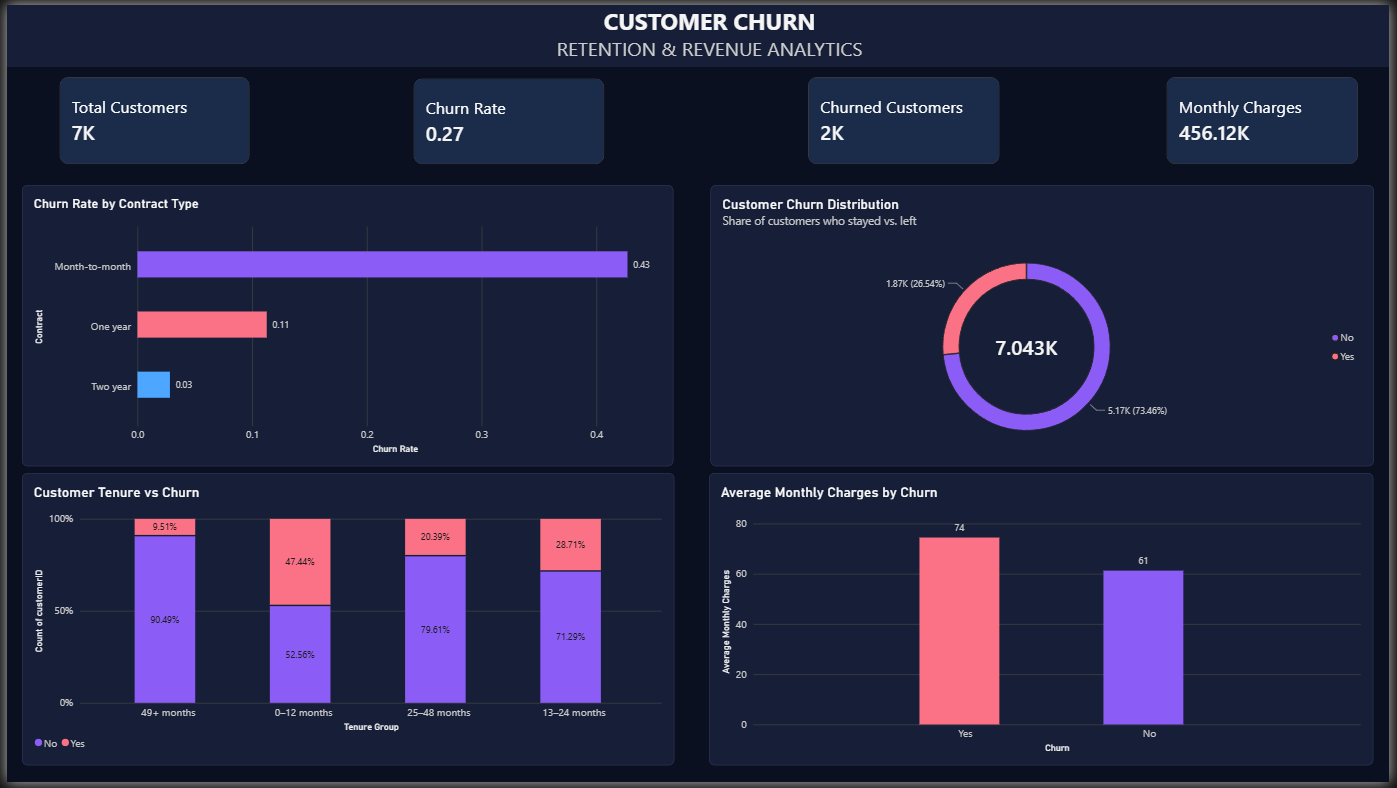

Layout of this report page (visuals, bound fields, positions):
{"tool":"powerbi","page":{"name":"executive overview","canvas":[1920,1080],"ordinal":0},"visuals":[{"type":"cardVisual","fields":{"Data":["Telco-Customer-Churn.Total Customers"]},"box":[73.8,100,264.3,121.4],"z":0},{"type":"cardVisual","fields":{"Data":["Telco-Customer-Churn.Churn Rate"]},"box":[564.3,102.4,265,119],"z":1000},{"type":"cardVisual","fields":{"Data":["Telco-Customer-Churn.Churned Customers"]},"box":[1111.9,100,266.7,121.4],"z":2000},{"type":"cardVisual","fields":{"Data":["Telco-Customer-Churn.Monthly Charges"]},"box":[1609.5,100,266.7,121.4],"z":3000},{"type":"shape","box":[0,0,1919.3,86.3],"z":4000},{"type":"textbox","box":[649.6,0,651.9,86.3],"z":5000},{"type":"clusteredBarChart","title":"Churn Rate by Contract Type","fields":{"Category":["Telco-Customer-Churn.Contract"],"Y":["Telco-Customer-Churn.Churn Rate"]},"box":[21.4,250,904.8,390.5],"z":6000},{"type":"donutChart","title":"Customer Churn Distribution","fields":{"Category":["Telco-Customer-Churn.Churn"],"Y":["CountNonNull(Telco-Customer-Churn.customerID)"]},"box":[976.2,250,921.4,390.5],"z":7000},{"type":"hundredPercentStackedColumnChart","title":"Customer Tenure vs Churn","fields":{"Category":["Telco-Customer-Churn.Tenure Group"],"Series":["Telco-Customer-Churn.Churn"],"Y":["Count(Telco-Customer-Churn.customerID)"]},"box":[20.8,650,906.2,406.2],"z":8000},{"type":"clusteredColumnChart","title":"Average Monthly Charges by Churn","fields":{"Category":["Telco-Customer-Churn.Churn"],"Y":["Telco-Customer-Churn.Average Monthly Charges"]},"box":[975,650,922.9,406.2],"z":9000}]}

Visuals, with their boxes in screenshot pixels (x1, y1, x2, y2), scaled from the page's 1920x1080 canvas onto the 1397x788 screenshot:
cardVisual - Telco-Customer-Churn.Total Customers: select_region(54, 73, 246, 162)
cardVisual - Telco-Customer-Churn.Churn Rate: select_region(411, 75, 603, 162)
cardVisual - Telco-Customer-Churn.Churned Customers: select_region(809, 73, 1003, 162)
cardVisual - Telco-Customer-Churn.Monthly Charges: select_region(1171, 73, 1365, 162)
shape: select_region(0, 0, 1396, 63)
textbox: select_region(473, 0, 947, 63)
"Churn Rate by Contract Type" clusteredBarChart: select_region(16, 182, 674, 467)
"Customer Churn Distribution" donutChart: select_region(710, 182, 1381, 467)
"Customer Tenure vs Churn" hundredPercentStackedColumnChart: select_region(15, 474, 674, 771)
"Average Monthly Charges by Churn" clusteredColumnChart: select_region(709, 474, 1381, 771)
